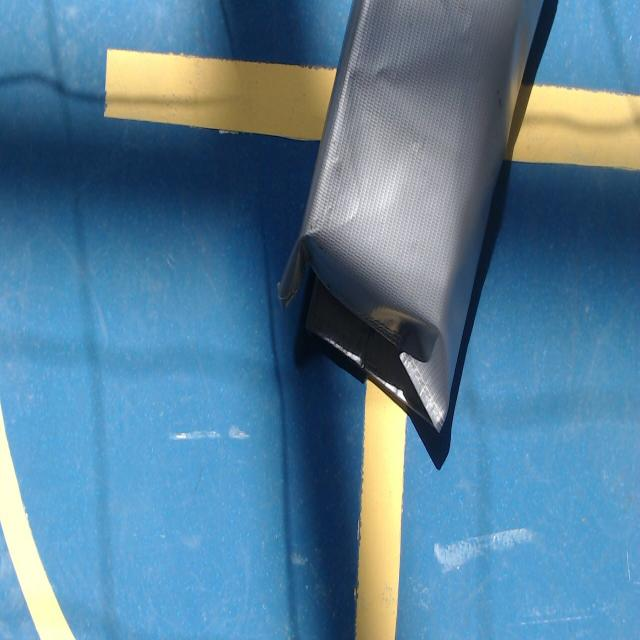direita: (278, 0, 542, 430)
